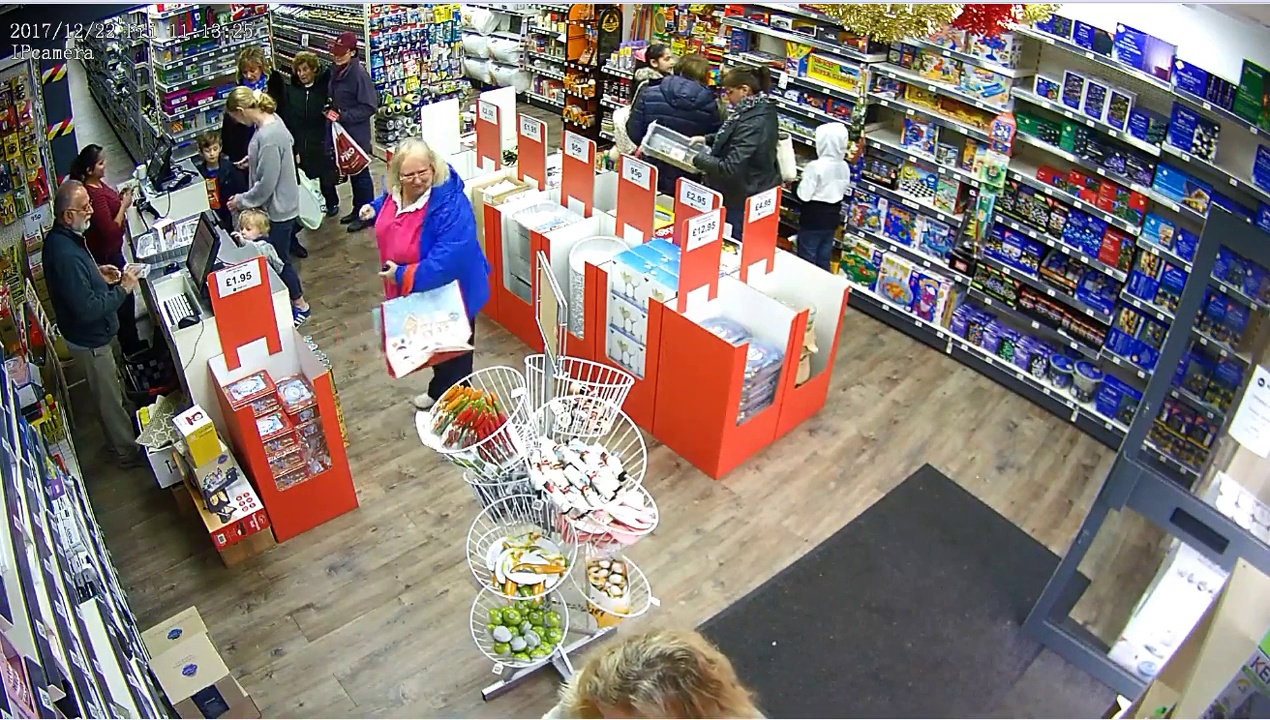face: (393, 158, 430, 202), (232, 211, 262, 242), (70, 199, 96, 231), (652, 47, 678, 69), (200, 143, 221, 167), (294, 59, 315, 80), (240, 67, 257, 80)
